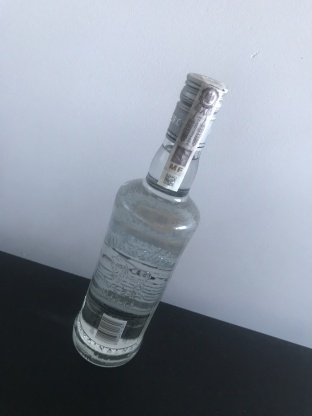nakretka: (163, 70, 230, 153)
